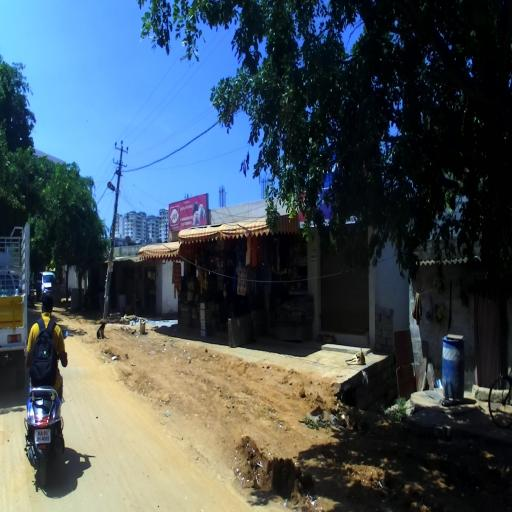street_light_0: (108, 182, 119, 218)
